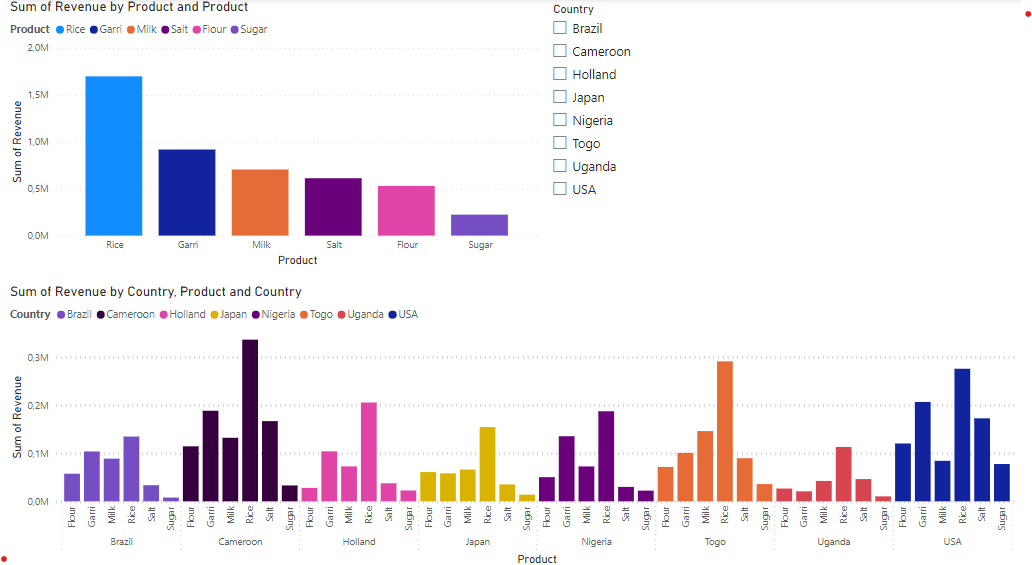

What the dashboard file says about the page in this screenshot:
{"tool":"powerbi","page":{"name":"DAY 51","canvas":[1280,720],"ordinal":2},"visuals":[{"type":"columnChart","fields":{"Category":["Sales.Product"],"Y":["Sum(Sales.Revenue)"],"Series":["Sales.Product"]},"box":[0,60.5,714.3,421.4],"z":0},{"type":"slicer","box":[714.3,85,565,442.2],"z":1}]}

Visuals, with their boxes in screenshot pixels (x1, y1, x2, y2), scaled from the page's 1280x720 canvas onto the 1032x565 screenshot:
columnChart - Sales.Product x Sum(Sales.Revenue): [x1=0, y1=47, x2=576, y2=378]
slicer: [x1=576, y1=67, x2=1031, y2=414]
